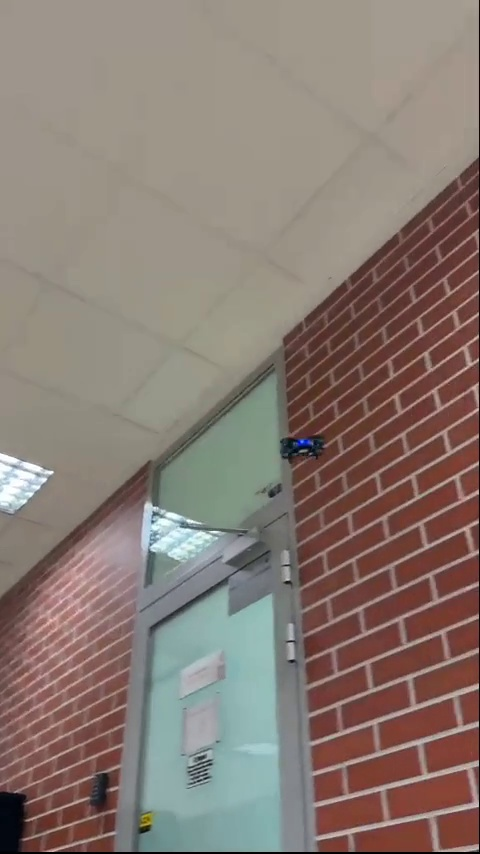drone: (276, 431, 325, 463)
